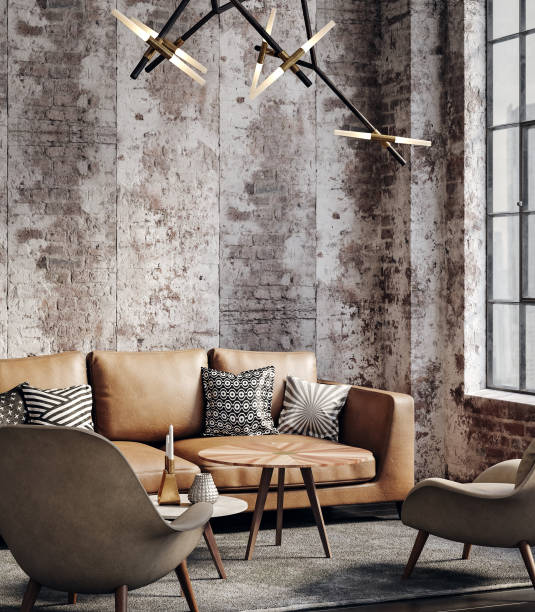chair: (0, 421, 228, 612), (399, 431, 535, 591)
sofa: (0, 346, 417, 525)
table: (195, 440, 375, 565)
